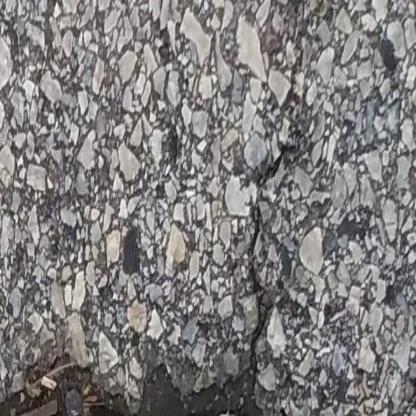Cracks: (0, 231, 278, 416)
